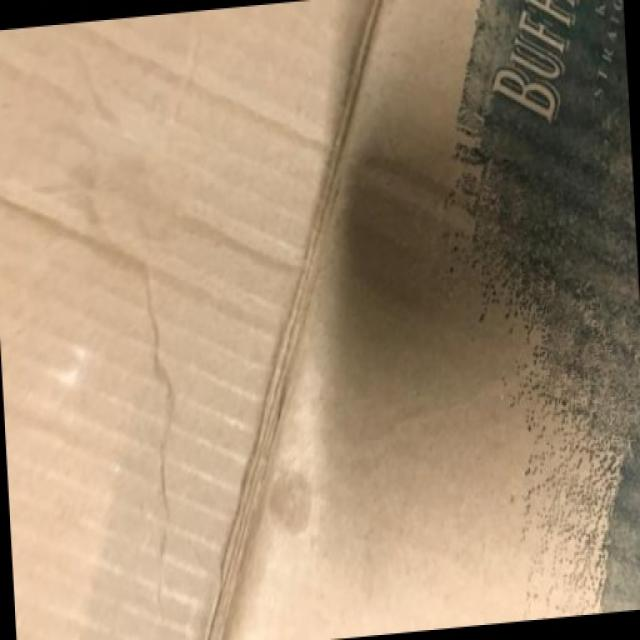carton: (170, 96, 588, 608)
